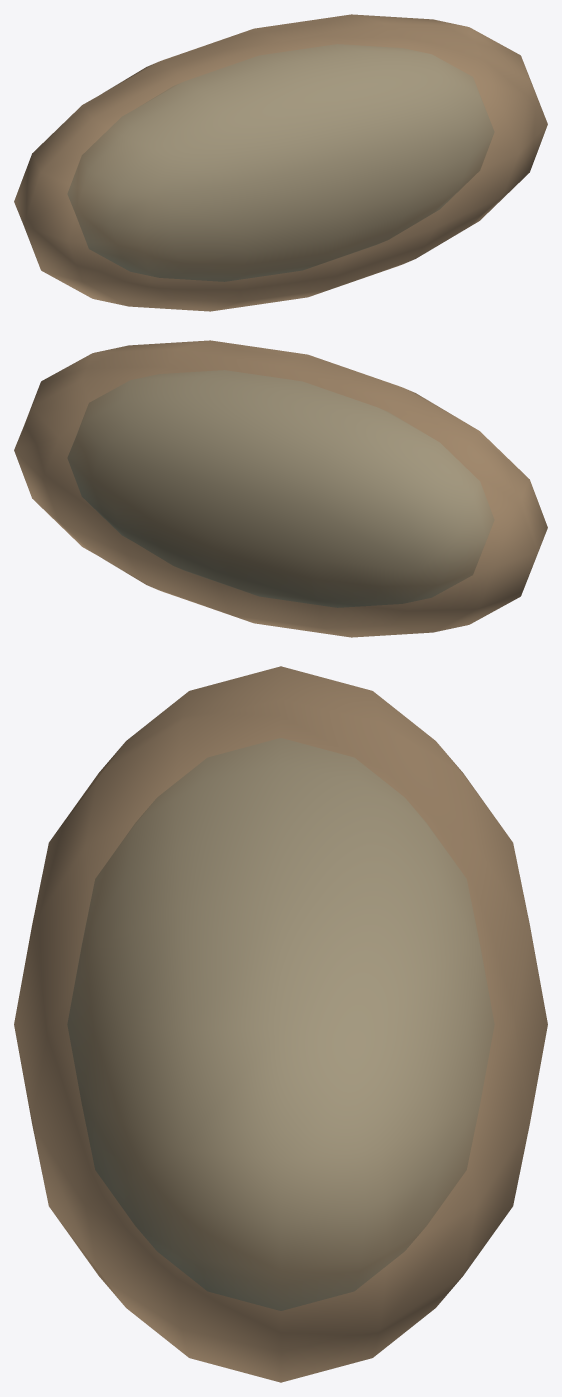
The model's file is Appliance_Pill.fbx.
The picture shows the model from 3 angles, top to bottom: view 1: azimuth 30°, elevation 25°; view 2: azimuth 150°, elevation 25°; view 3: azimuth 270°, elevation 25°; orthographic projection. The views are drawn at different scales.
Visible parts, largest first — view 1: Pill, Soup; view 2: Pill, Soup; view 3: Pill, Soup.
Boxes of the visible parts, box(x1,y1,x2,y2) form: Pill: box(14, 14, 547, 311); Soup: box(68, 44, 493, 281); Pill: box(14, 340, 547, 637); Soup: box(68, 370, 493, 607); Pill: box(14, 666, 547, 1382); Soup: box(68, 738, 493, 1310).
Size of the model in its own units: 52.06 by 23.76 by 23.76.
